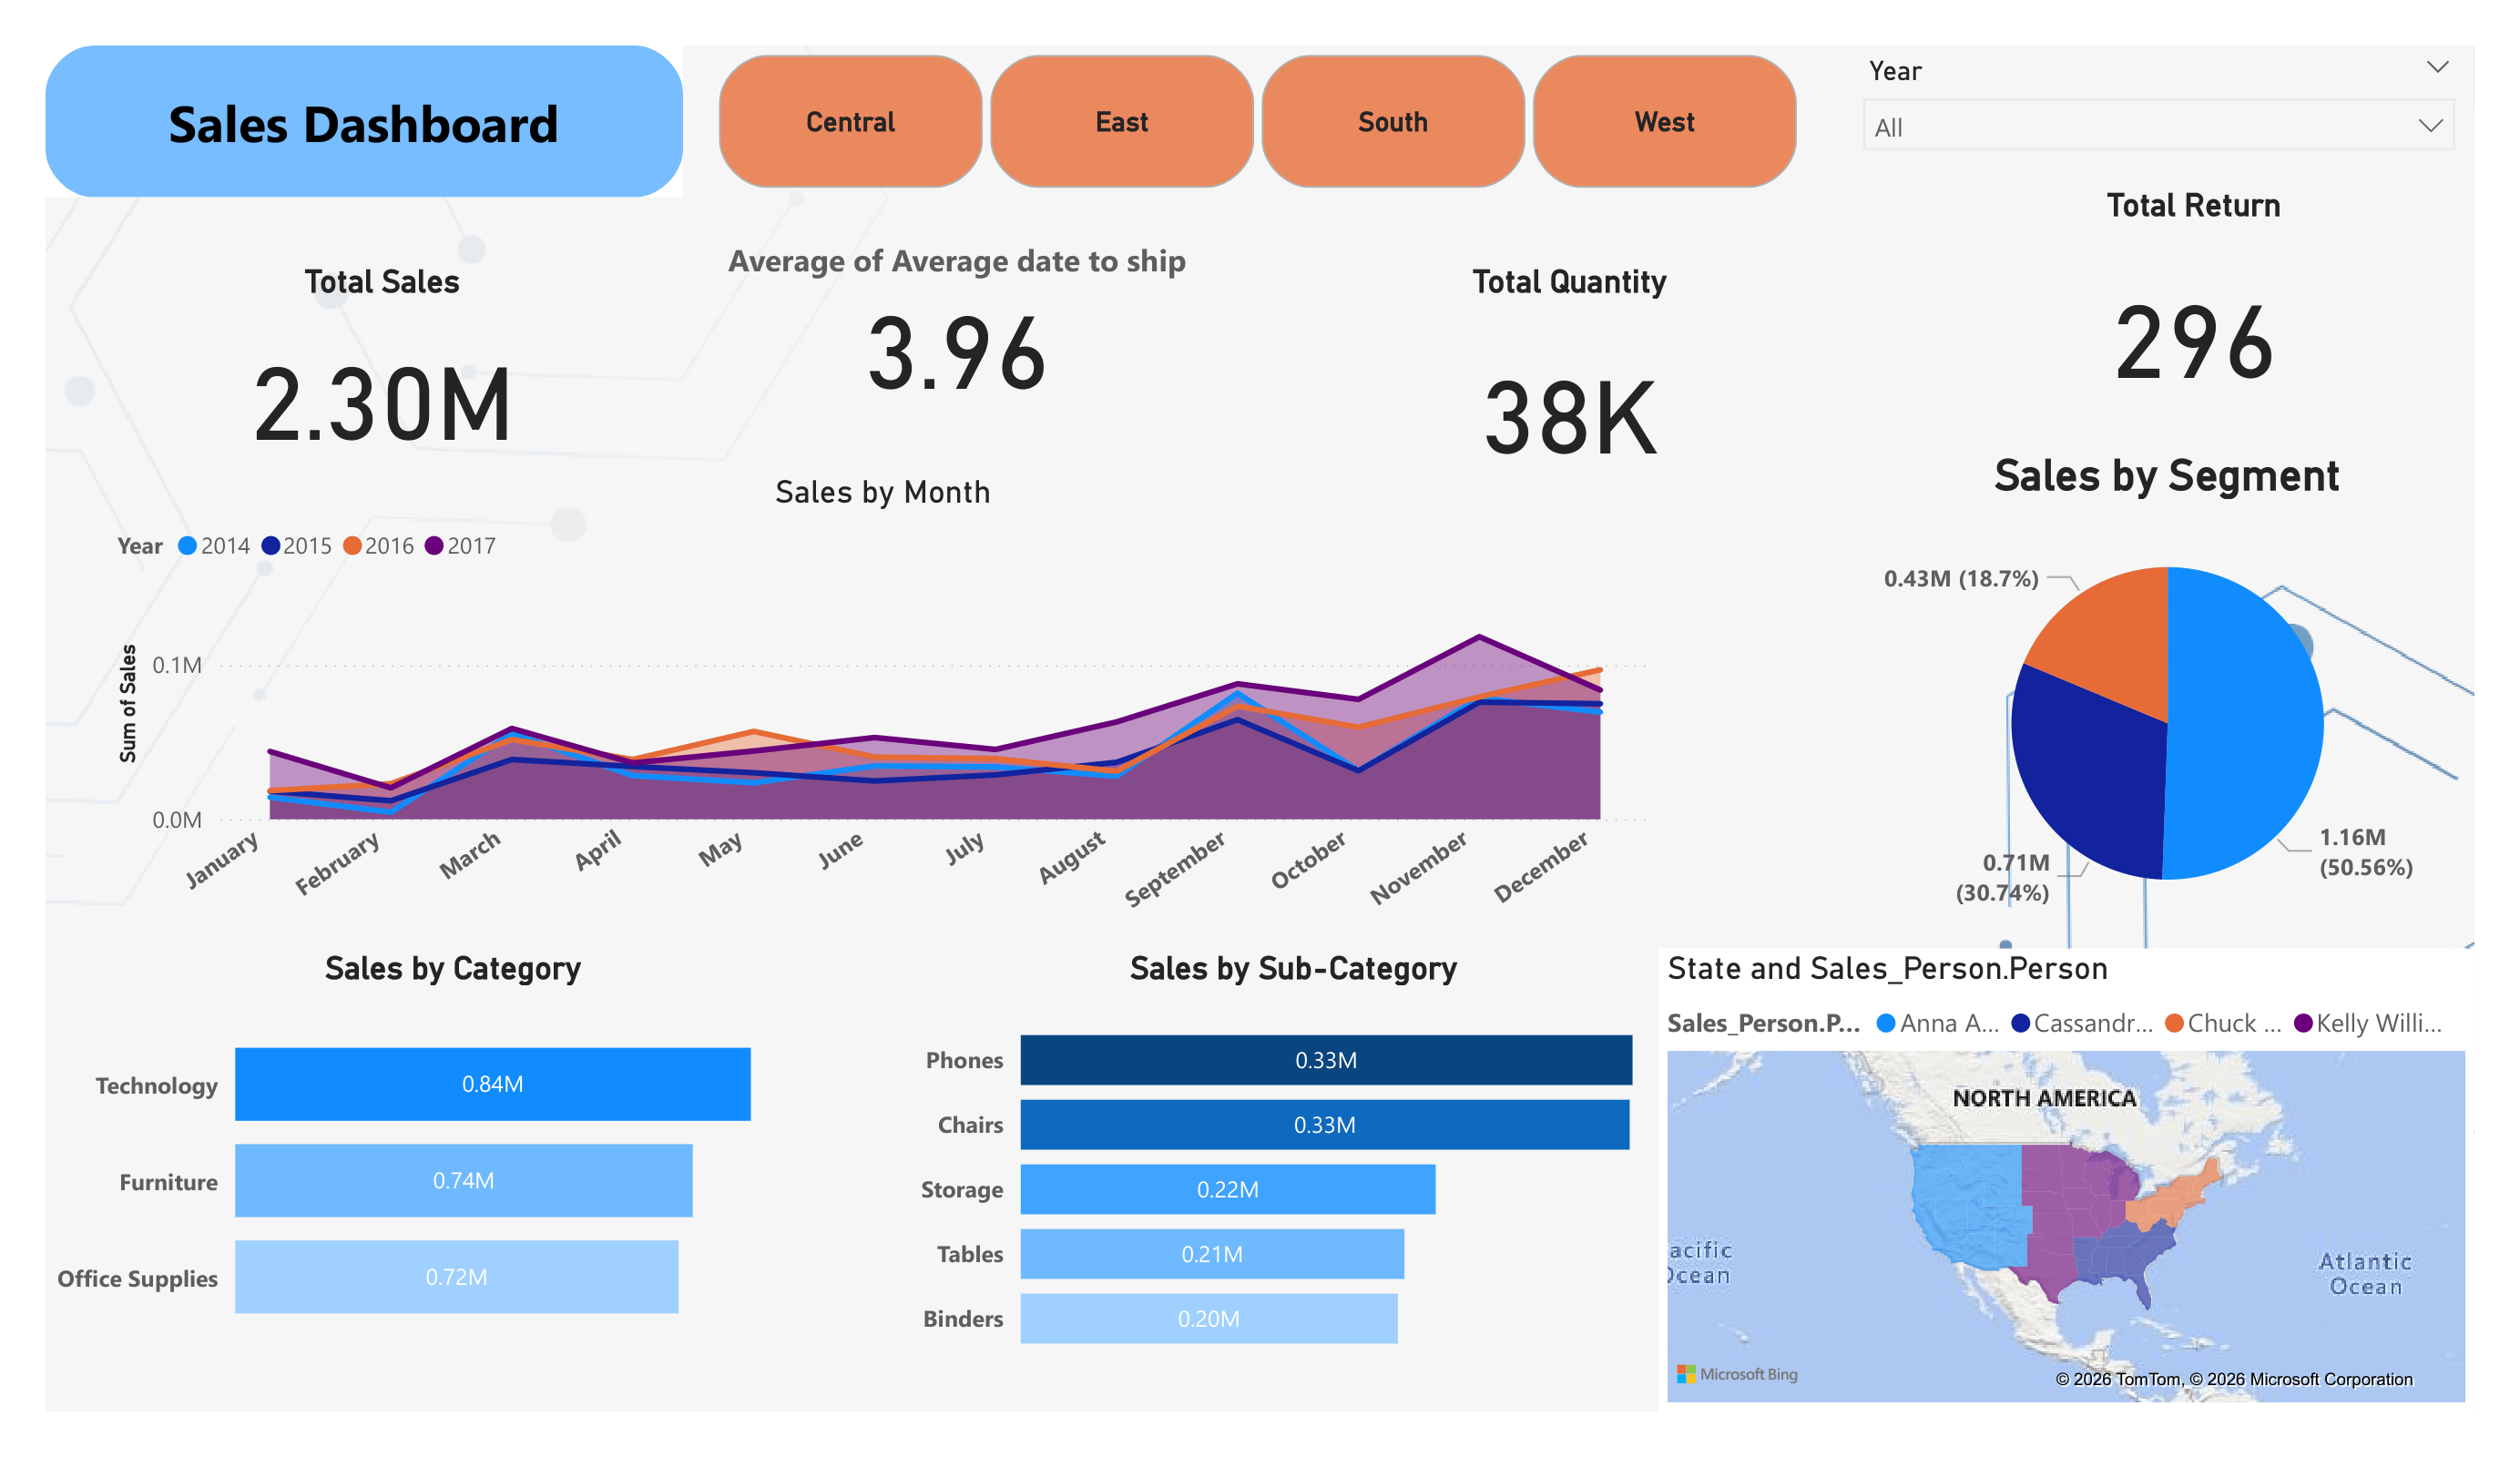

This screenshot's page, from the dashboard's own definition file:
{"tool":"powerbi","page":{"name":"Sales Dashboard","canvas":[1280,720],"ordinal":0},"visuals":[{"type":"pieChart","title":"Sales by Segment","fields":{"Category":["Orders.Segment"],"Y":["Sum(Orders.Sales)"],"Series":["Orders.Segment"]},"box":[957.4,213.3,322.3,262.5],"z":0},{"type":"clusteredBarChart","title":"Sales by Category","fields":{"Category":["Orders.Category"],"Y":["Sum(Orders.Sales)"]},"box":[0,475.8,430.1,220.3],"z":1000},{"type":"clusteredBarChart","title":"Sales by Sub-Category","fields":{"Category":["Orders.Sub-Category"],"Y":["Sum(Orders.Sales)"]},"box":[454.7,475.8,406.6,228.5],"z":2000},{"type":"areaChart","title":"Sales by Month","fields":{"Category":["Orders.Order Date.Variation.Date Hierarchy.Month"],"Y":["Sum(Orders.Sales)"],"Series":["Orders.Order Date.Variation.Date Hierarchy.Year"]},"box":[32.8,225,816.8,250.8],"z":3000},{"type":"advancedSlicerVisual","fields":{"Values":["Orders.Region"]},"box":[350,0,578.9,80],"z":4000},{"type":"cardVisual","title":"Total Quantity","fields":{"Data":["Sum(Orders.Quantity)"]},"box":[718.4,113.7,171.1,135.9],"z":5000},{"type":"cardVisual","title":"Total Sales","fields":{"Data":["Sum(Orders.Sales)"]},"box":[58.6,113.7,237.9,123],"z":6000},{"type":"slicer","fields":{"Values":["Orders.Order Date.Variation.Date Hierarchy.Year"]},"box":[948.3,0,331.7,73.3],"z":7000},{"type":"cardVisual","fields":{"Data":["Avg(Orders.Average date to ship)"]},"box":[336.3,79.7,288.3,133.6],"z":8000},{"type":"filledMap","fields":{"Category":["Orders.State"],"Series":["Orders.Sales_Person.Person"]},"box":[849.6,475.8,430.1,243.8],"z":9000},{"type":"cardVisual","title":"Total Return","fields":{"Data":["CountNonNull(Return_data.Order ID)"]},"box":[1046.5,73.8,171.1,135.9],"z":10000},{"type":"shape","title":"Per","box":[0,0,336.3,79.7],"z":11000}]}

Visuals, with their boxes on the page's 1280x720 design canvas (x1, y1, x2, y2). These are canvas units, not pixel positions in the 2520x1457 screenshot, which may show the page scaled, cropped or inside an application window:
"Sales by Segment" pieChart: <box>957,213,1280,476</box>
"Sales by Category" clusteredBarChart: <box>0,476,430,696</box>
"Sales by Sub-Category" clusteredBarChart: <box>455,476,861,704</box>
"Sales by Month" areaChart: <box>33,225,850,476</box>
advancedSlicerVisual - Orders.Region: <box>350,0,929,80</box>
"Total Quantity" cardVisual: <box>718,114,890,250</box>
"Total Sales" cardVisual: <box>59,114,296,237</box>
slicer - Orders.Order Date.Variation.Date Hierarchy.Year: <box>948,0,1280,73</box>
cardVisual - Avg(Orders.Average date to ship): <box>336,80,625,213</box>
filledMap - Orders.State x Orders.Sales_Person.Person: <box>850,476,1280,720</box>
"Total Return" cardVisual: <box>1046,74,1218,210</box>
"Per" shape: <box>0,0,336,80</box>
